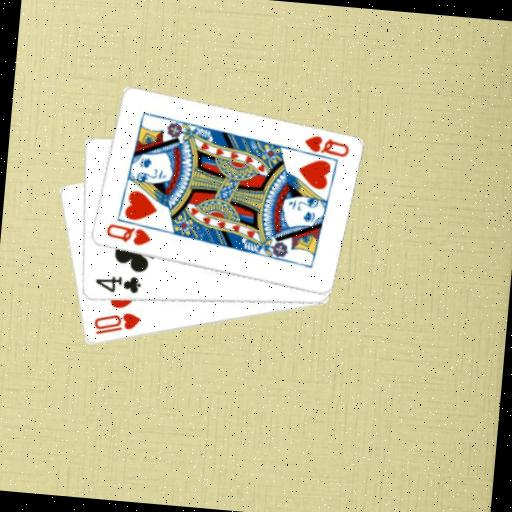10H: (90, 307, 143, 340)
4C: (91, 271, 143, 298)
QH: (292, 131, 351, 165), (102, 220, 154, 248)
